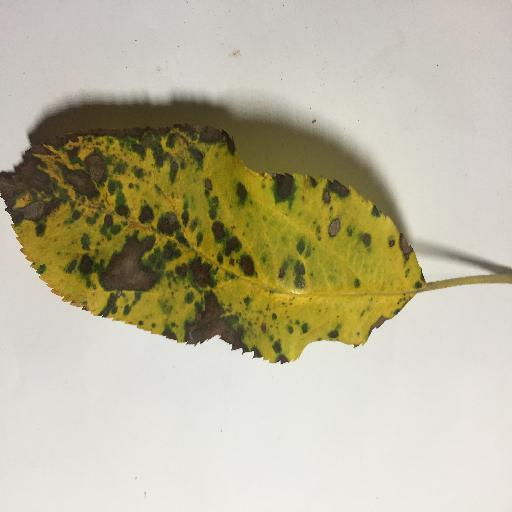Brown_Spot: (4, 89, 416, 408)
